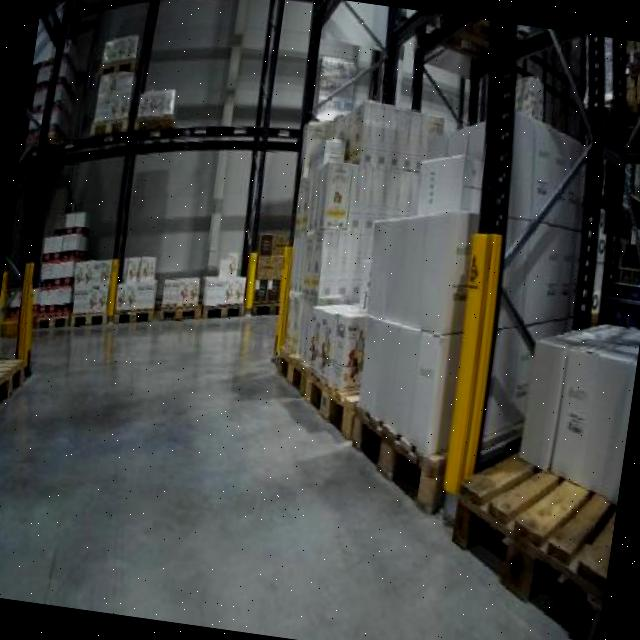pallet: (433, 430, 624, 640), (336, 386, 473, 523), (294, 359, 396, 450), (264, 330, 320, 399), (0, 342, 39, 423), (144, 288, 211, 329), (104, 294, 168, 334), (62, 298, 120, 334), (194, 286, 250, 322), (31, 302, 84, 338)
